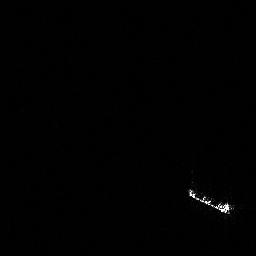ship: (184, 185, 236, 217)
